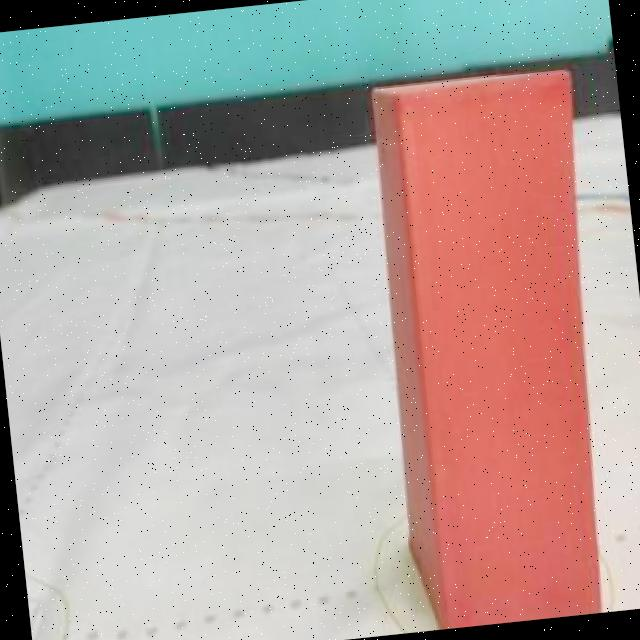redbox: (357, 60, 628, 631)
